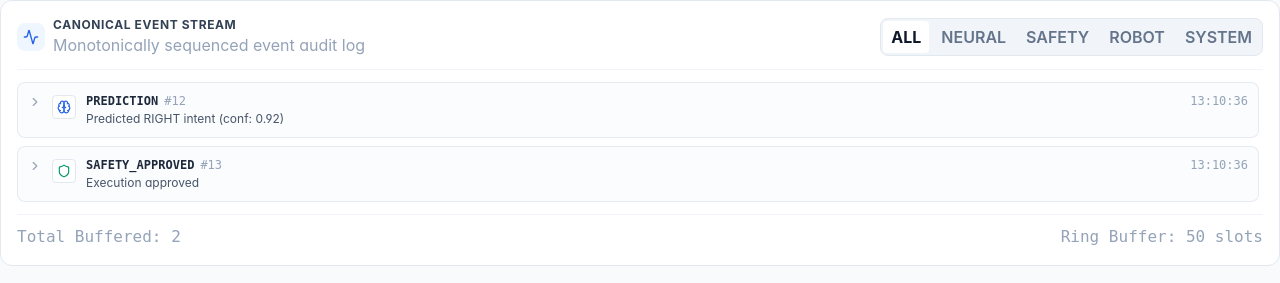
Test: Live Command Center Components (Phase 06) › LiveEventTimeline › renders event list and handles filtering
Expected: the heading "Canonical Event Stream" is shown, [53,17,236,32]
Expected: the text "PREDICTION" is shown, [86,93,158,109]
Note: Filter to SAFETY
Click the button "SAFETY": (1058, 37) [1018,21,1097,53]
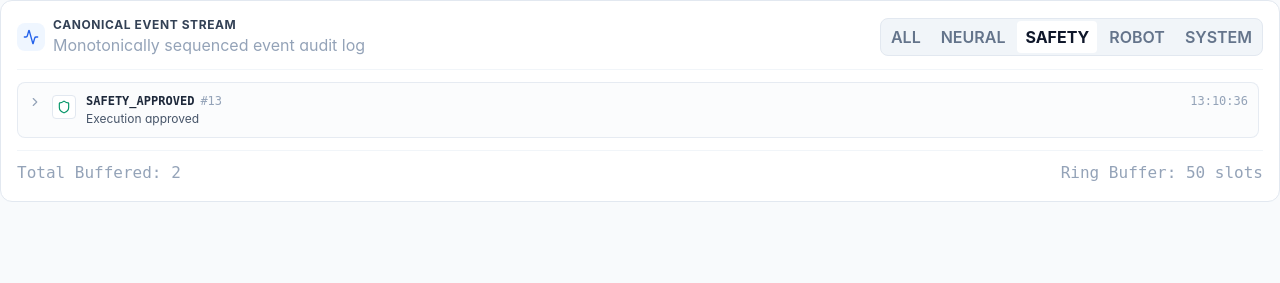
Expected: the text "SAFETY_APPROVED" is shown, [86,93,194,109]
Result: the button "PREDICTION" is gone
